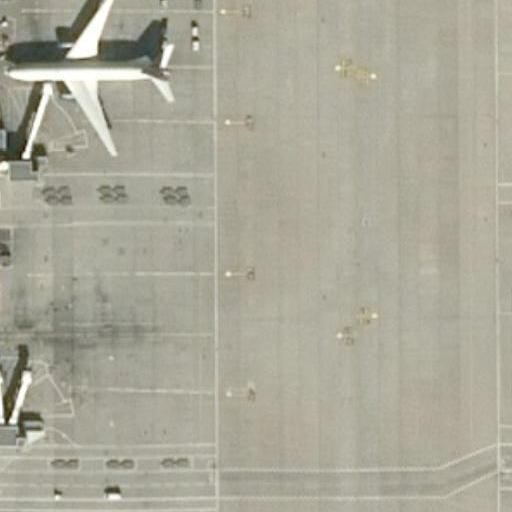Aircraft: (8, 0, 180, 157)
